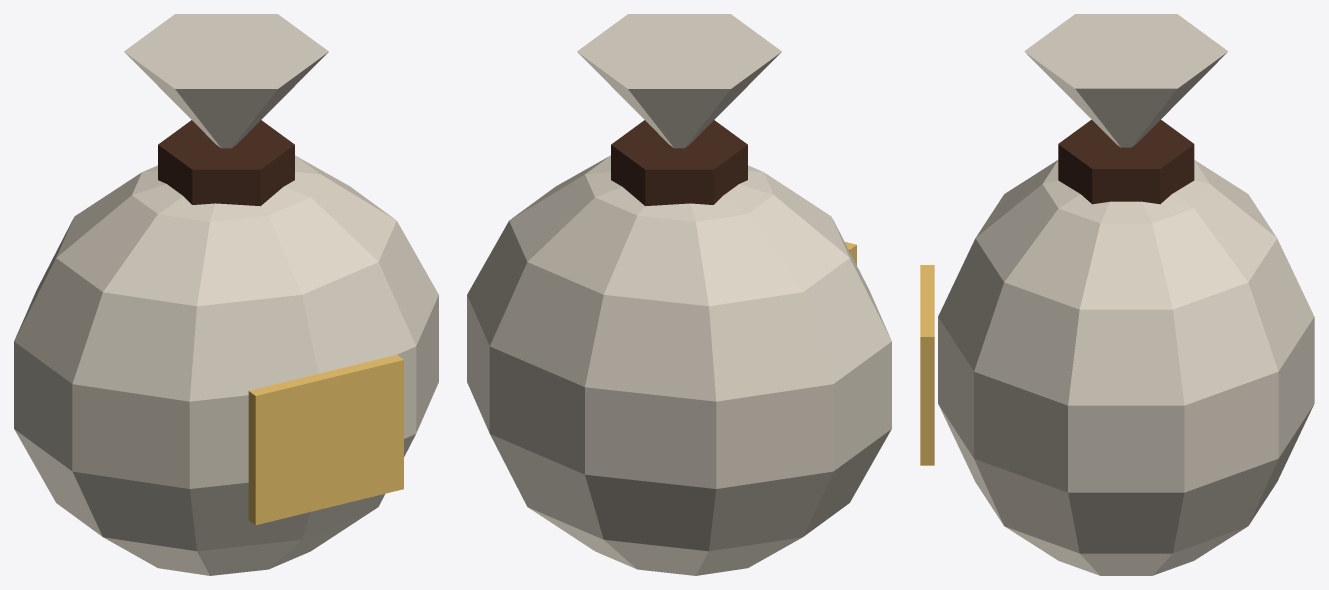
The model's file is good_flour.glb.
The picture shows the model from 3 angles, left to right: view 1: azimuth 30°, elevation 25°; view 2: azimuth 150°, elevation 25°; view 3: azimuth 270°, elevation 25°; orthographic projection.
Visible parts, largest first — view 1: good_flour; view 2: good_flour; view 3: good_flour.
Boxes of the visible parts, <box> form: good_flour: <box>14,14,438,575</box>; good_flour: <box>467,14,891,575</box>; good_flour: <box>920,14,1314,575</box>.
Size of the model in its own units: 0.2967 by 0.392 by 0.2776.
